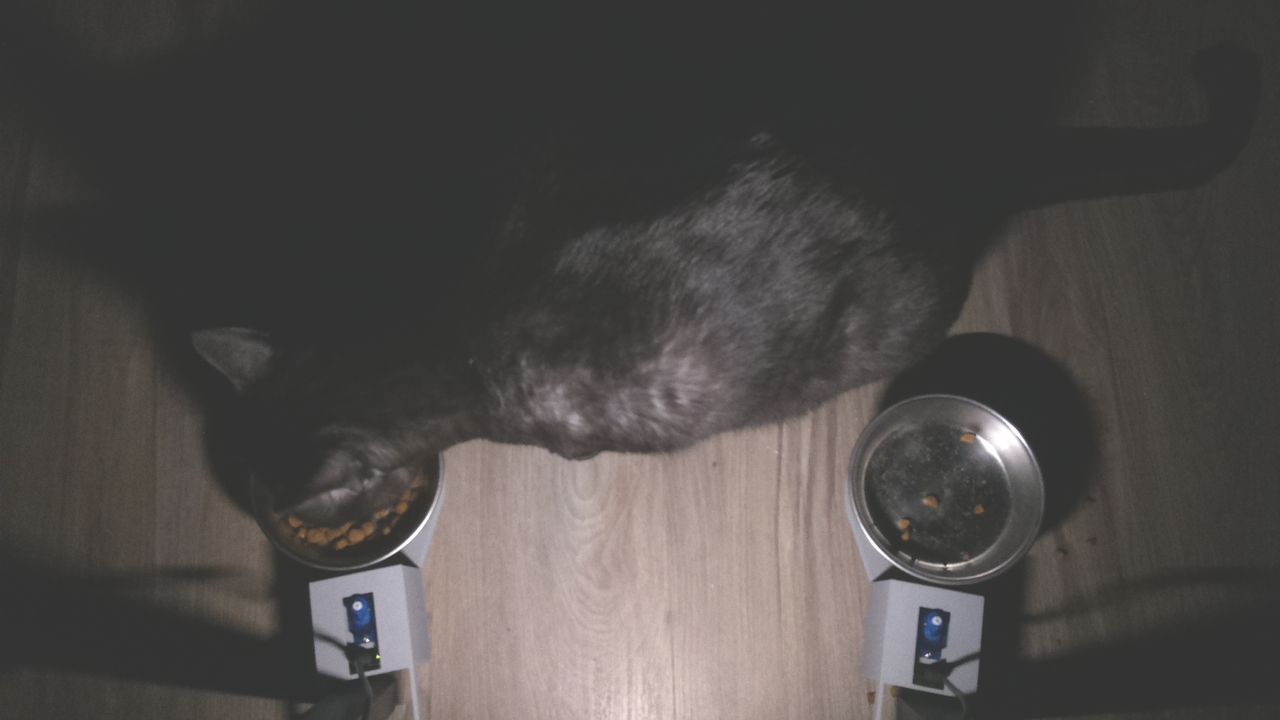open_bowl: (848, 382, 1054, 583)
saki_eating: (173, 308, 468, 590)
